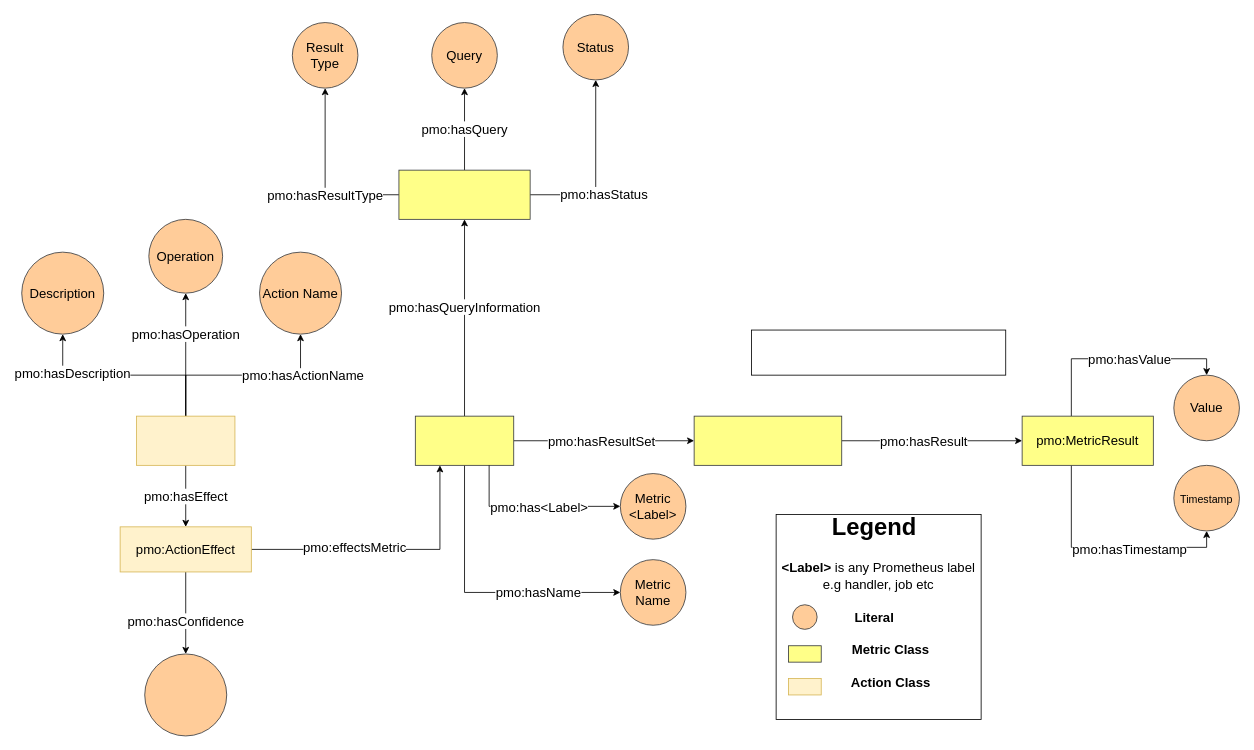
Image size: 1254x750. Some labels were removed from this diagram. Here are the shapes that lost their labels. From the top down, the centre of each, then its label:
the point at 464,194: pmo:MetricQuery
the point at 878,352: A Metric result set contains one or more results
the point at 185,440: pmo:Action
the point at 464,440: pmo:Metric
the point at 767,440: pmo:MetricResultSet
the point at 185,694: Confidence Value
